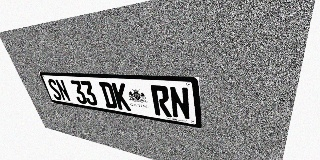3: (80, 81, 98, 106), (70, 80, 88, 104)
D: (99, 82, 118, 109)
K: (111, 83, 131, 111)
N: (169, 86, 191, 120), (54, 79, 72, 102)
R: (150, 85, 172, 117)
S: (46, 79, 63, 101)
